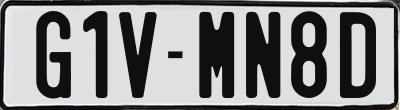1: (82, 11, 111, 98)
8: (290, 11, 332, 103)
D: (339, 11, 377, 100)
G: (34, 9, 71, 97)
M: (196, 10, 232, 102)
N: (244, 10, 279, 101)
V: (116, 9, 155, 97)
